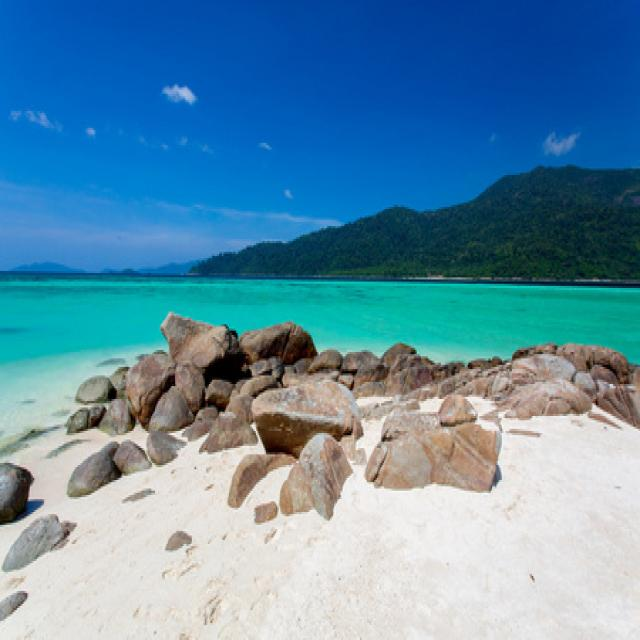island: (178, 143, 640, 294)
